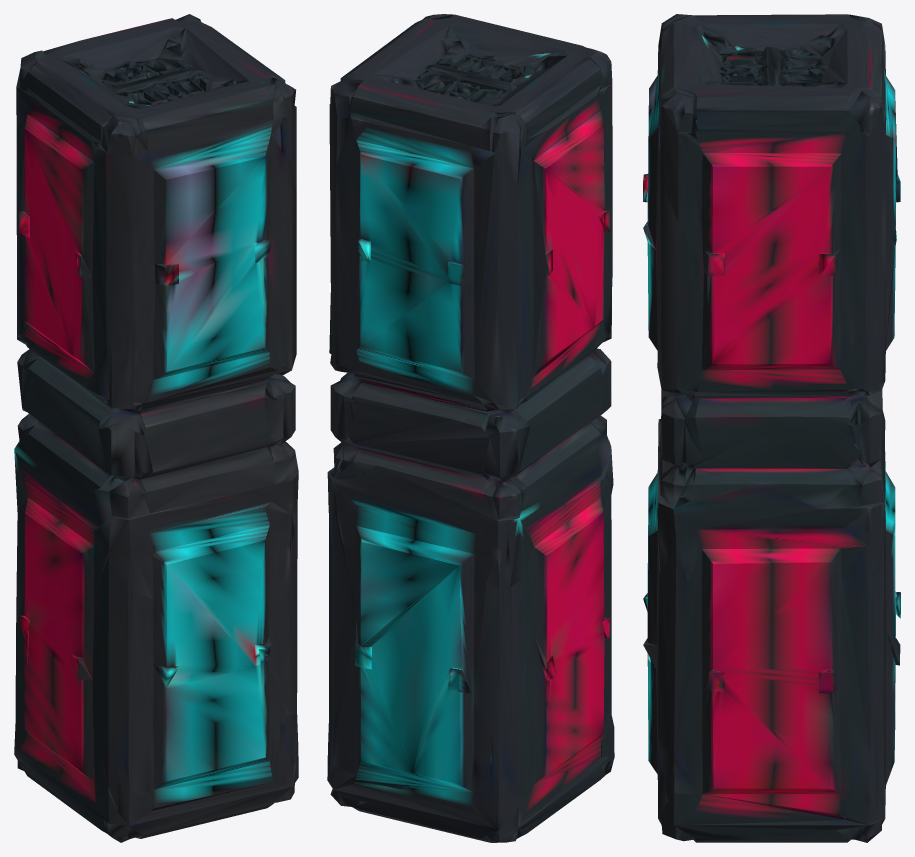
The model's file is cover_full_city_v1.glb.
The picture shows the model from 3 angles, left to right: view 1: azimuth 30°, elevation 25°; view 2: azimuth 150°, elevation 25°; view 3: azimuth 270°, elevation 25°; orthographic projection. The views are drawn at different scales.
Size of the model in its own units: 0.5799 by 1.85 by 0.5796.
Materials: 1 (1 with a texture image).
